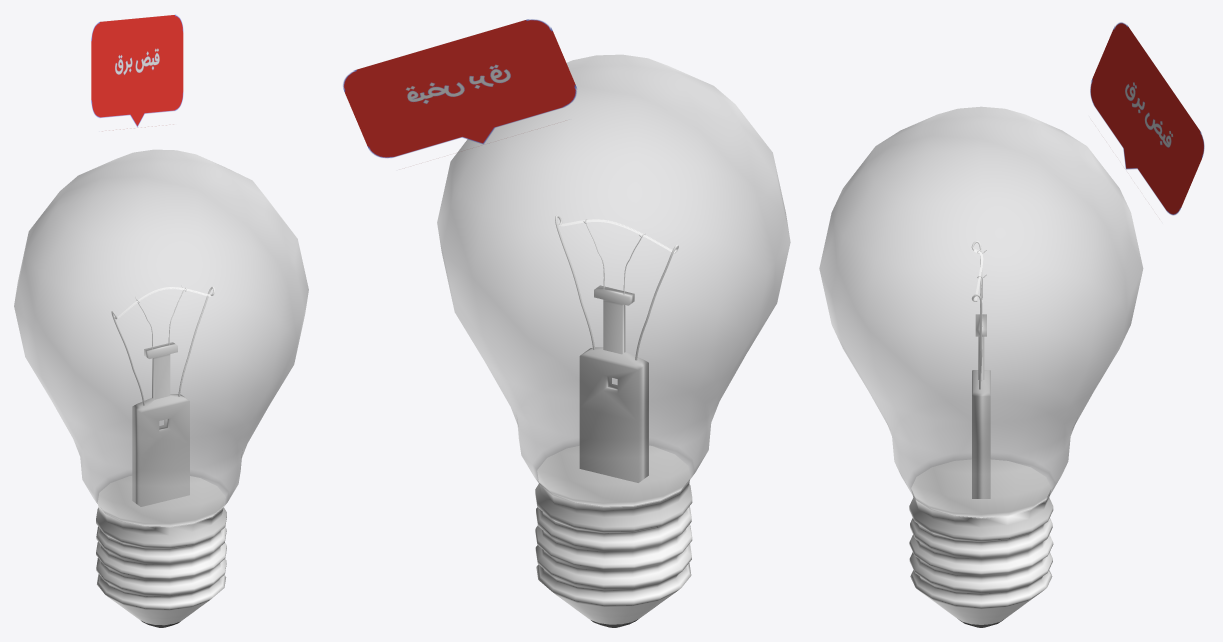
The model's file is lamptry.glb.
The picture shows the model from 3 angles, left to right: view 1: azimuth 30°, elevation 25°; view 2: azimuth 150°, elevation 25°; view 3: azimuth 270°, elevation 25°; orthographic projection. The views are drawn at different scales.
Parts seen in each view (by area): view 1: Sphere, Sphere.001, bill_elec_ar, Cube, BezierCurve; view 2: Sphere, Sphere.001, bill_elec_ar, Cube, BezierCurve; view 3: Sphere, Sphere.001, bill_elec_ar, Cube.
Part boxes in pixels (left/top/right/bottom): Sphere: left=14, top=149, right=308, bottom=527; Sphere.001: left=96, top=476, right=226, bottom=627; bill_elec_ar: left=91, top=14, right=183, bottom=127; Cube: left=132, top=342, right=189, bottom=506; BezierCurve: left=111, top=286, right=214, bottom=405; Sphere: left=437, top=54, right=790, bottom=507; Sphere.001: left=535, top=445, right=692, bottom=627; bill_elec_ar: left=343, top=19, right=576, bottom=157; Cube: left=579, top=285, right=648, bottom=482; BezierCurve: left=555, top=215, right=678, bottom=360; Sphere: left=819, top=106, right=1143, bottom=518; Sphere.001: left=909, top=459, right=1053, bottom=627; bill_elec_ar: left=1090, top=22, right=1204, bottom=215; Cube: left=972, top=314, right=990, bottom=498.
Size of the model in its own units: 2.85 by 5.89 by 3.42.
Materials: 8 (2 with a texture image).
